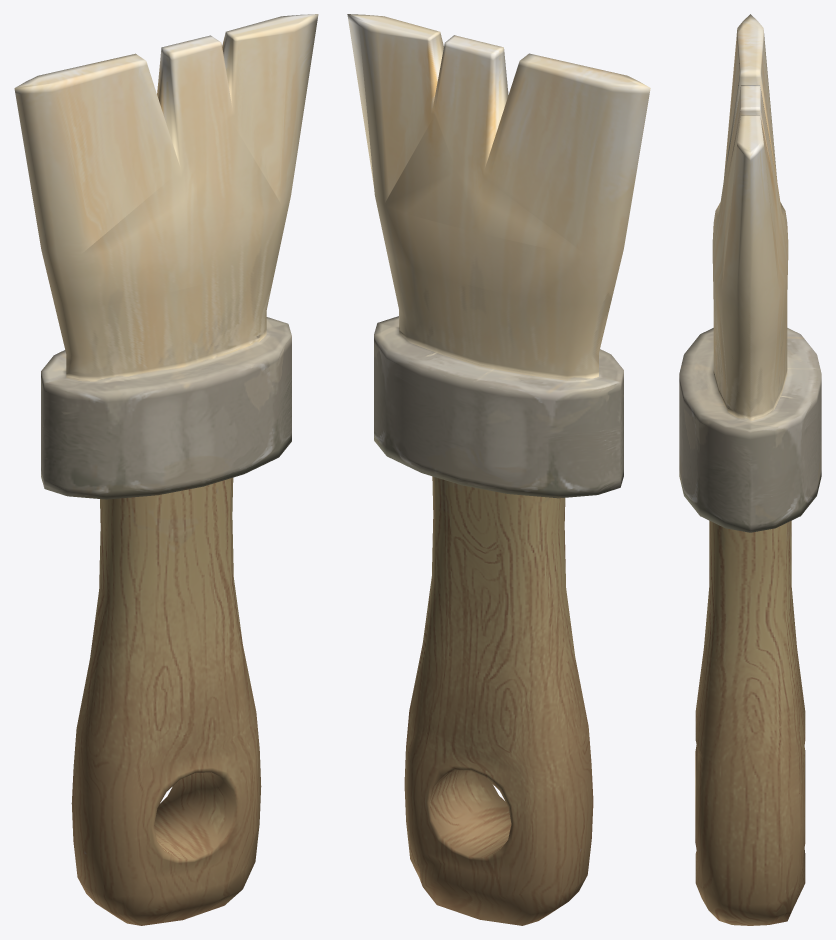
Rendered from Brush.fbx.
3 views of the same model, side by side, from view 1: azimuth 30°, elevation 25°; view 2: azimuth 150°, elevation 25°; view 3: azimuth 270°, elevation 25° (orthographic). The views are drawn at different scales.
Parts seen in each view (by area): view 1: Brush.001; view 2: Brush.001; view 3: Brush.001.
Boxes of the visible parts, x1=… form: Brush.001: x1=14, y1=14, x2=318, y2=925; Brush.001: x1=347, y1=14, x2=650, y2=925; Brush.001: x1=679, y1=14, x2=821, y2=925.
Size of the model in its own units: 65.87 by 178 by 27.94.
1 material, 1 textured.
